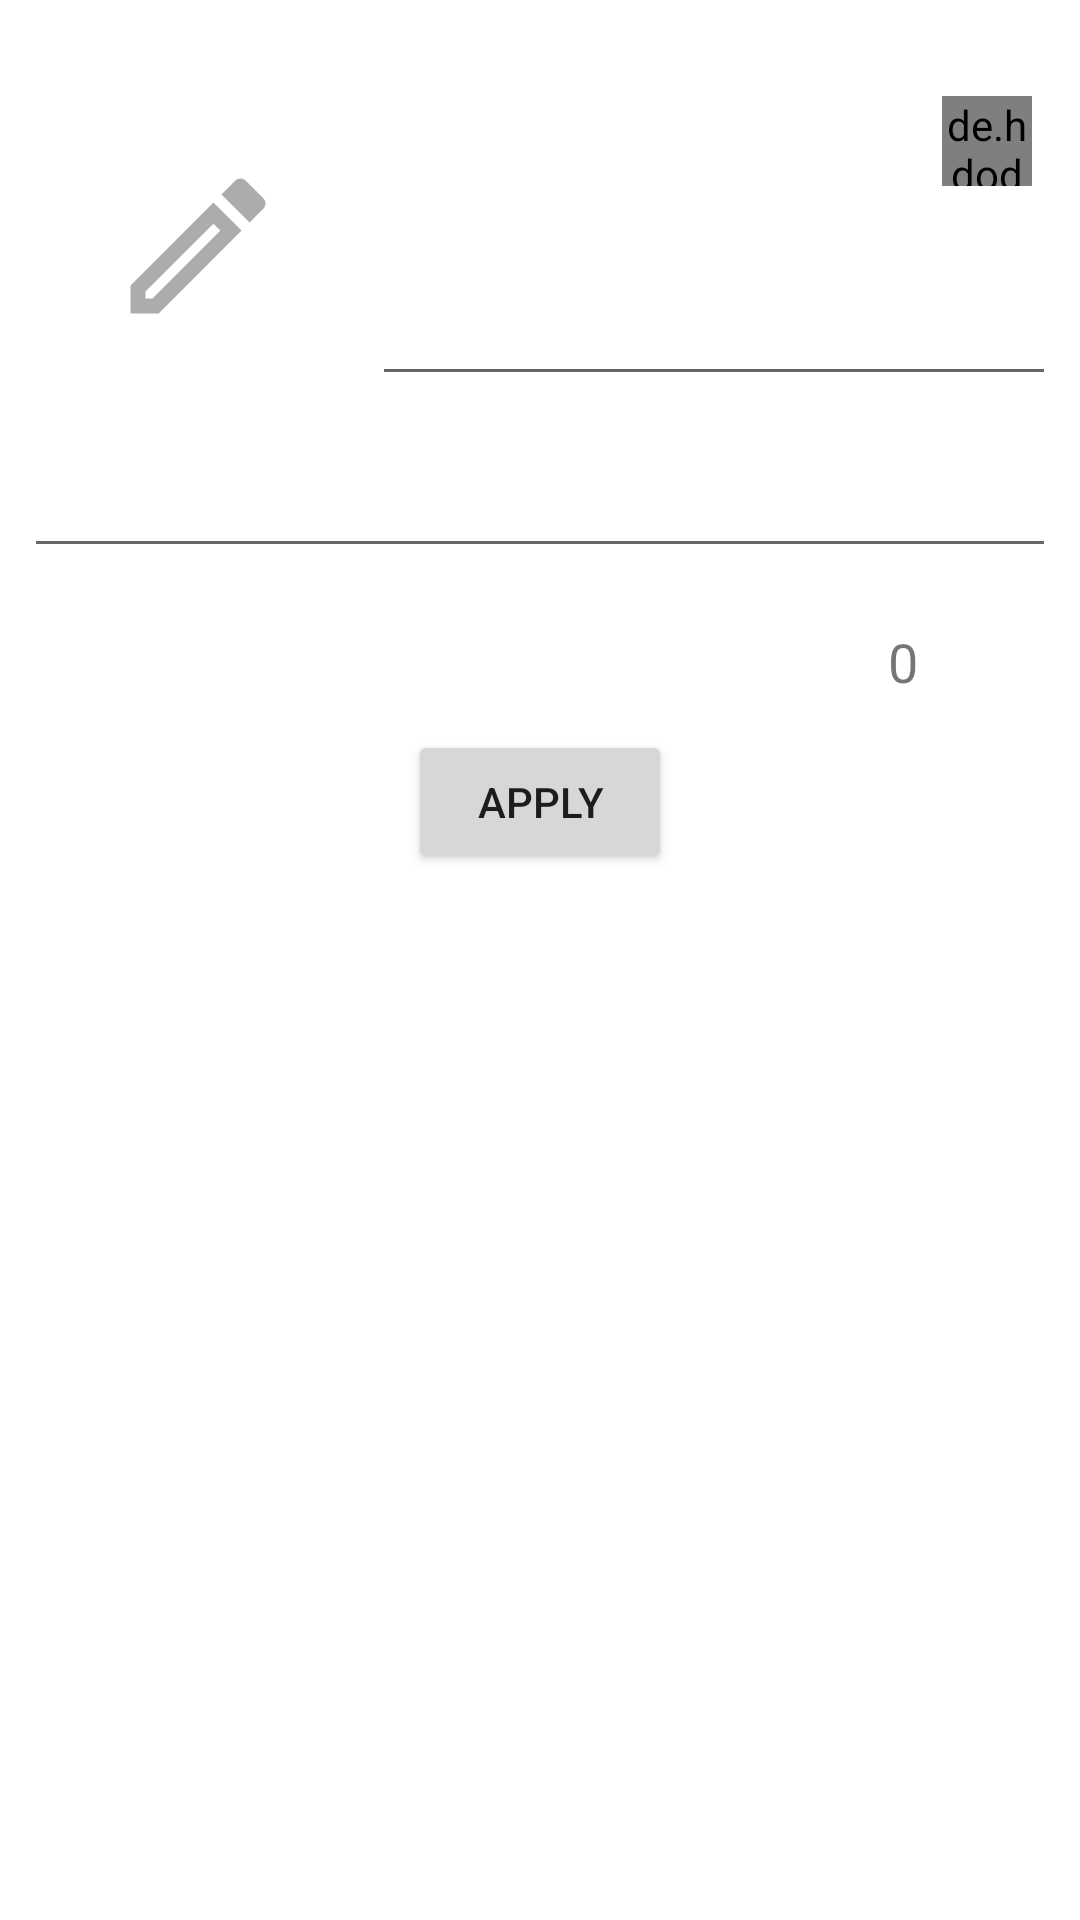

Screen size 1080px×1920px. Icon name, then its center in pixels as [x,y]:
edit: [198,246]
